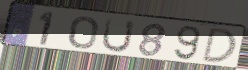1: (37, 11, 56, 48)
8: (138, 22, 167, 58)
9: (171, 25, 202, 62)
D: (200, 27, 238, 64)
O: (67, 15, 100, 50)
U: (99, 17, 137, 54)
